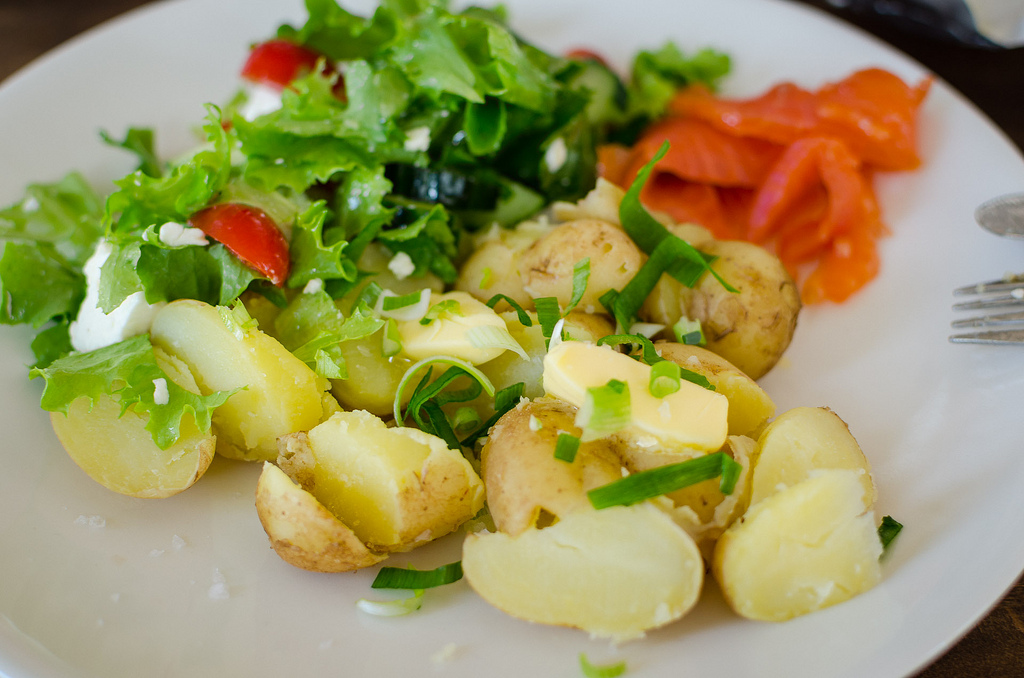boiled potatoes: (447, 360, 857, 620), (66, 323, 478, 563), (488, 201, 785, 365)
chopped lettuce: (11, 2, 605, 328)
